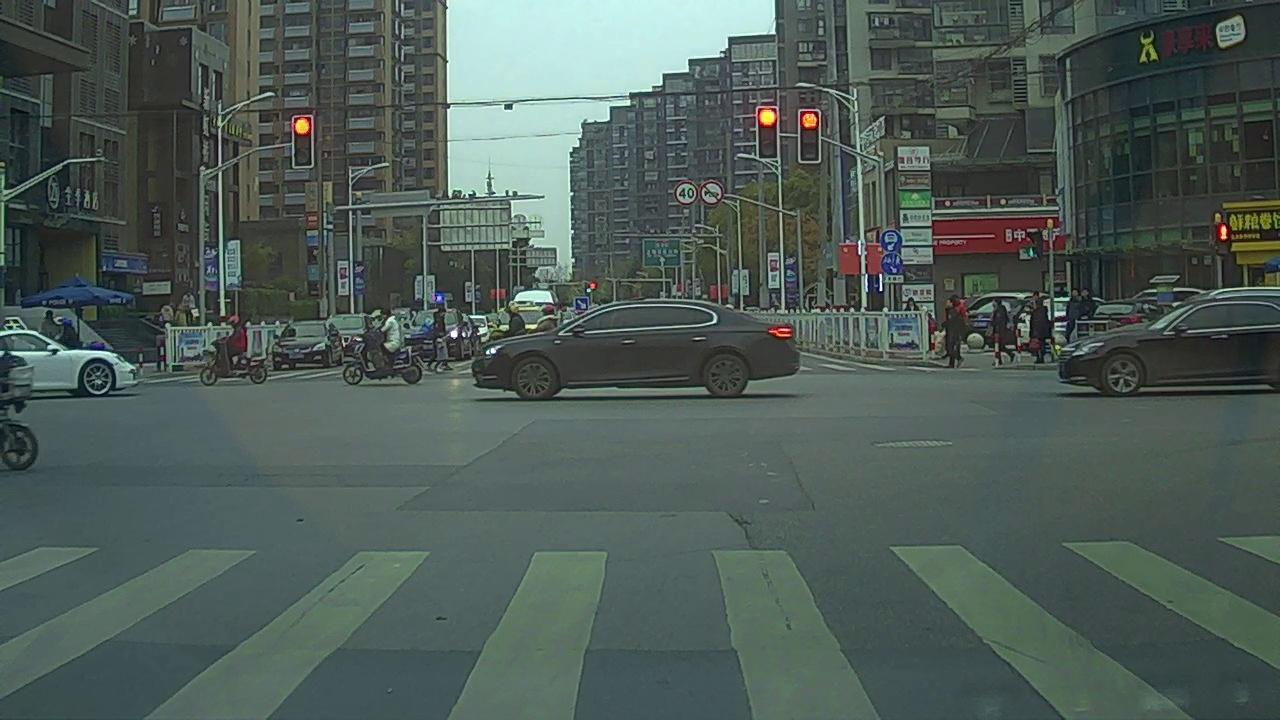traffic_light: (292, 113, 316, 169), (798, 108, 823, 161), (758, 106, 779, 157)
